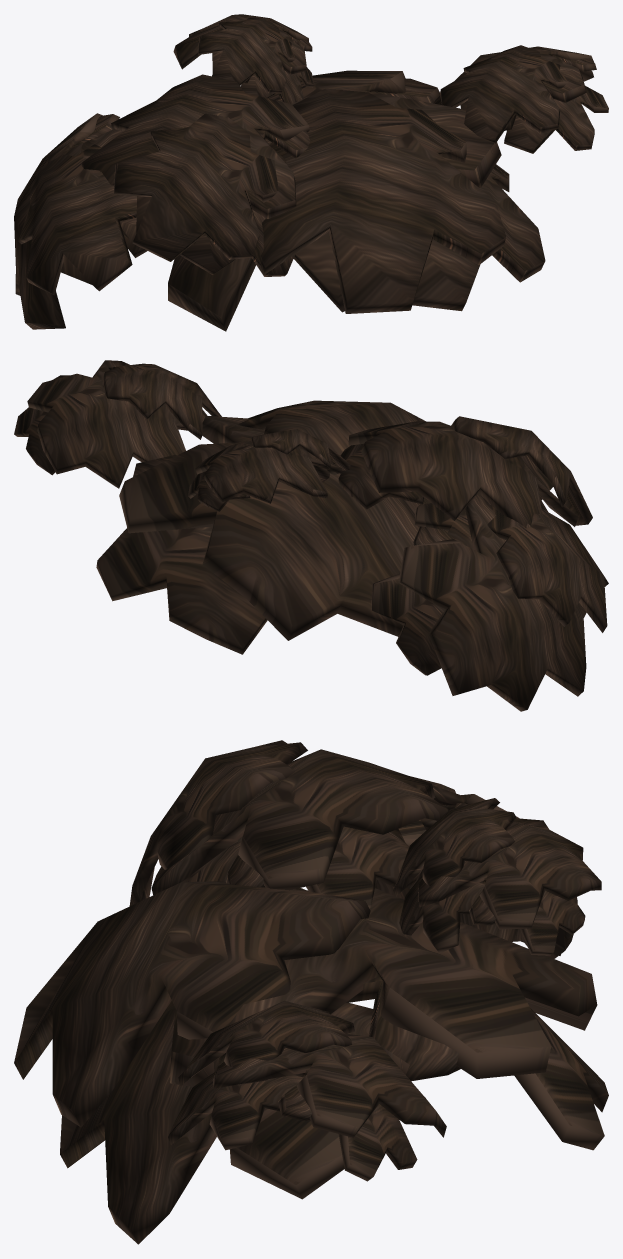
Rendered from CH_CE_Tree_UP_Cute.FBX.
The picture shows the model from 3 angles, top to bottom: view 1: azimuth 30°, elevation 25°; view 2: azimuth 150°, elevation 25°; view 3: azimuth 270°, elevation 25°; orthographic projection. The views are drawn at different scales.
Parts seen in each view (by area): view 1: Z_CE_Trees_Up_Cute 2; view 2: Z_CE_Trees_Up_Cute 2; view 3: Z_CE_Trees_Up_Cute 2.
Boxes of the visible parts, x1,y1,x2,y2 form: Z_CE_Trees_Up_Cute 2: (14, 14, 608, 331); Z_CE_Trees_Up_Cute 2: (14, 360, 608, 711); Z_CE_Trees_Up_Cute 2: (14, 740, 608, 1244).
Size of the model in its own units: 252 by 92.97 by 156.
